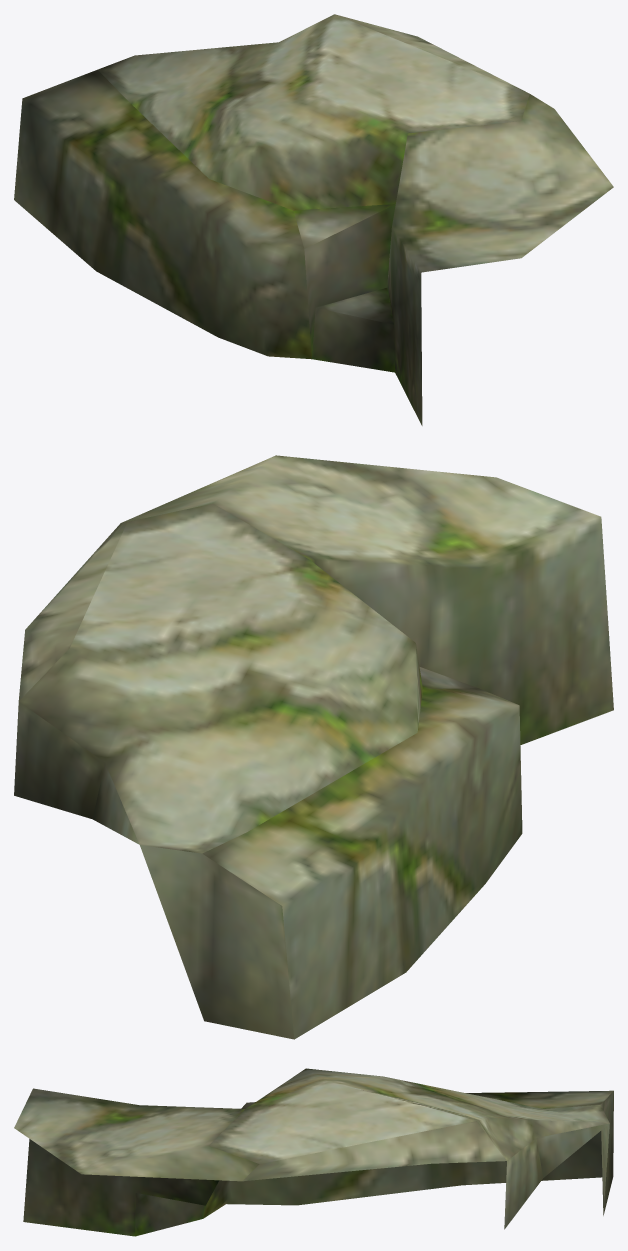
Rendered from S_Rock_Green050_1060_6.fbx.
3 views of the same model, one above another, from view 1: azimuth 30°, elevation 25°; view 2: azimuth 150°, elevation 25°; view 3: azimuth 270°, elevation 25° (orthographic). The views are drawn at different scales.
Parts seen in each view (by area): view 1: S_Rock_Green050_1060_6; view 2: S_Rock_Green050_1060_6; view 3: S_Rock_Green050_1060_6.
Part boxes in pixels (x1=…): S_Rock_Green050_1060_6: x1=14, y1=14, x2=613, y2=425; S_Rock_Green050_1060_6: x1=14, y1=455, x2=613, y2=1039; S_Rock_Green050_1060_6: x1=14, y1=1068, x2=613, y2=1236.
Size of the model in its own units: 877 by 493 by 1490.
Materials: 1 (1 with a texture image).
